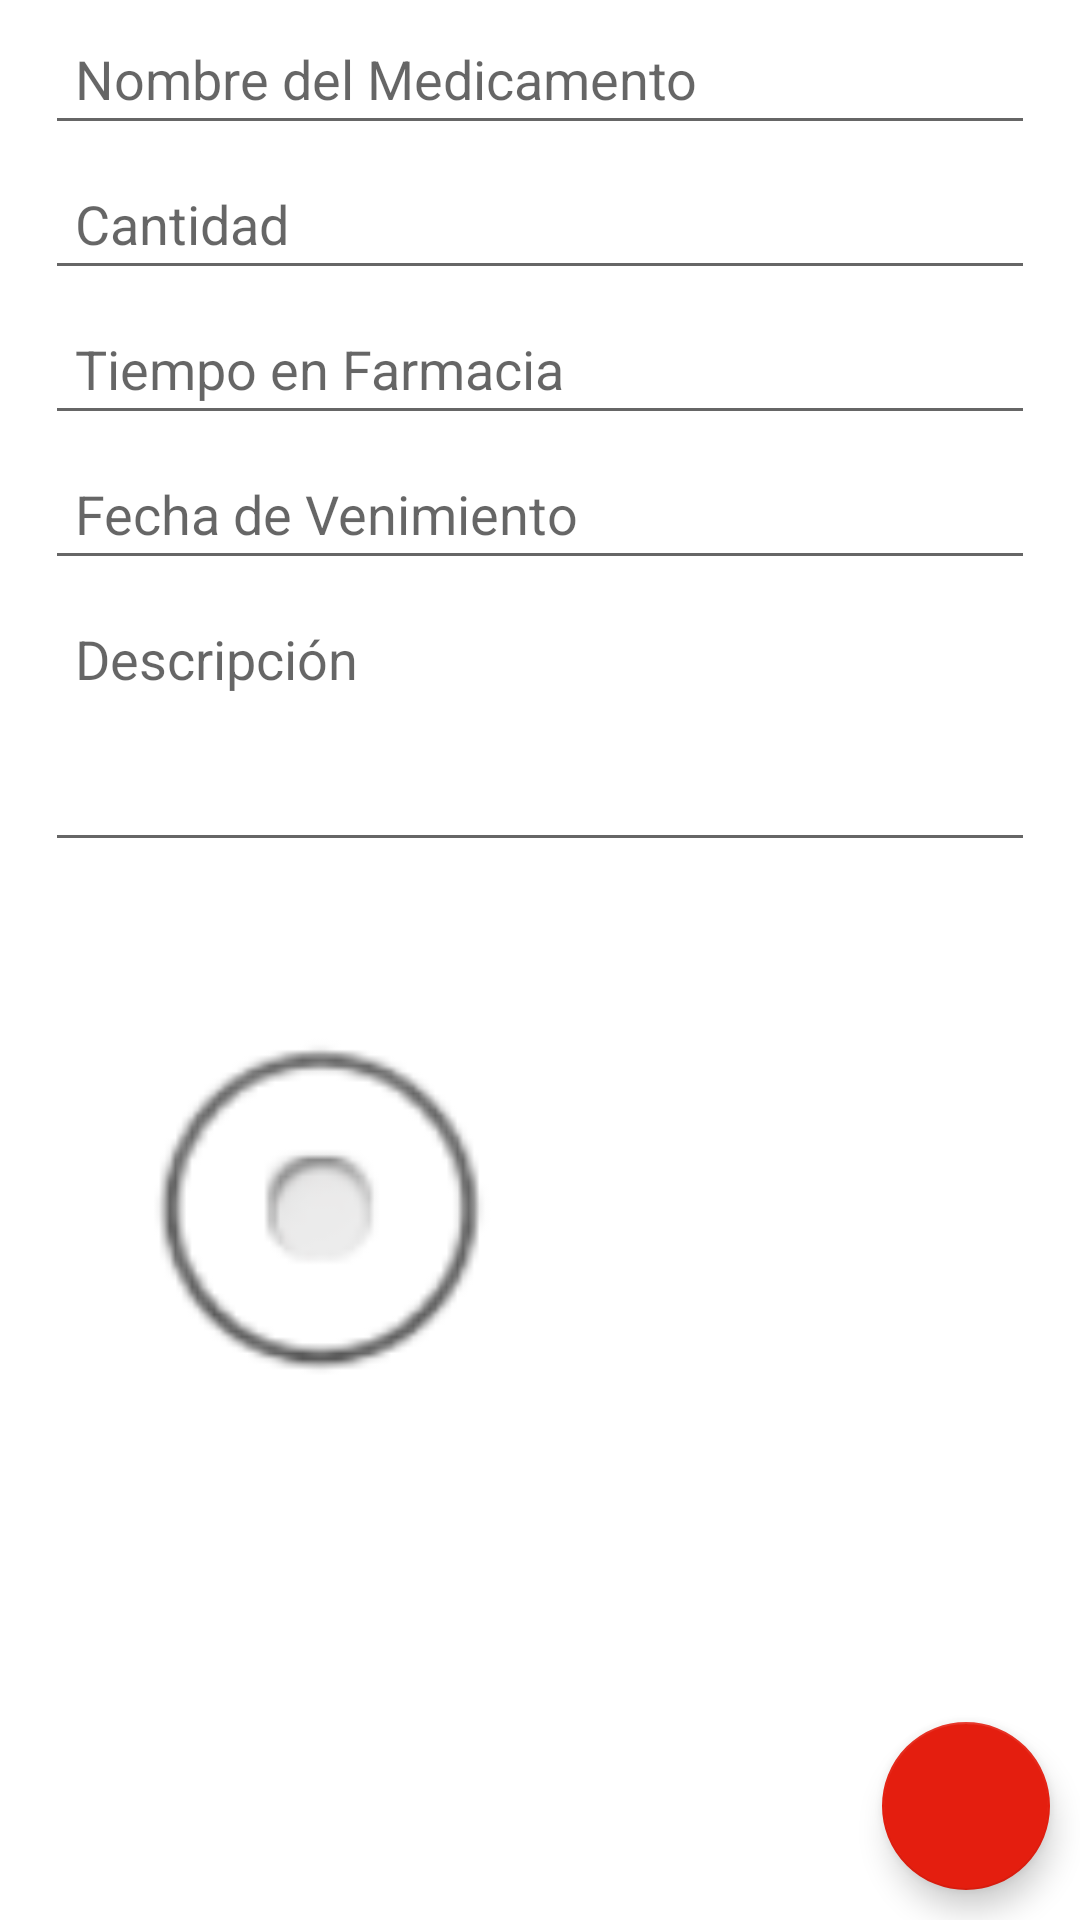

Named icons in this screenshot (1080×1920) and their bounding boxes, {"left": x1, "top": y1, "right": x2, "bottom": y2}:
radio: {"left": 160, "top": 1050, "right": 479, "bottom": 1369}
